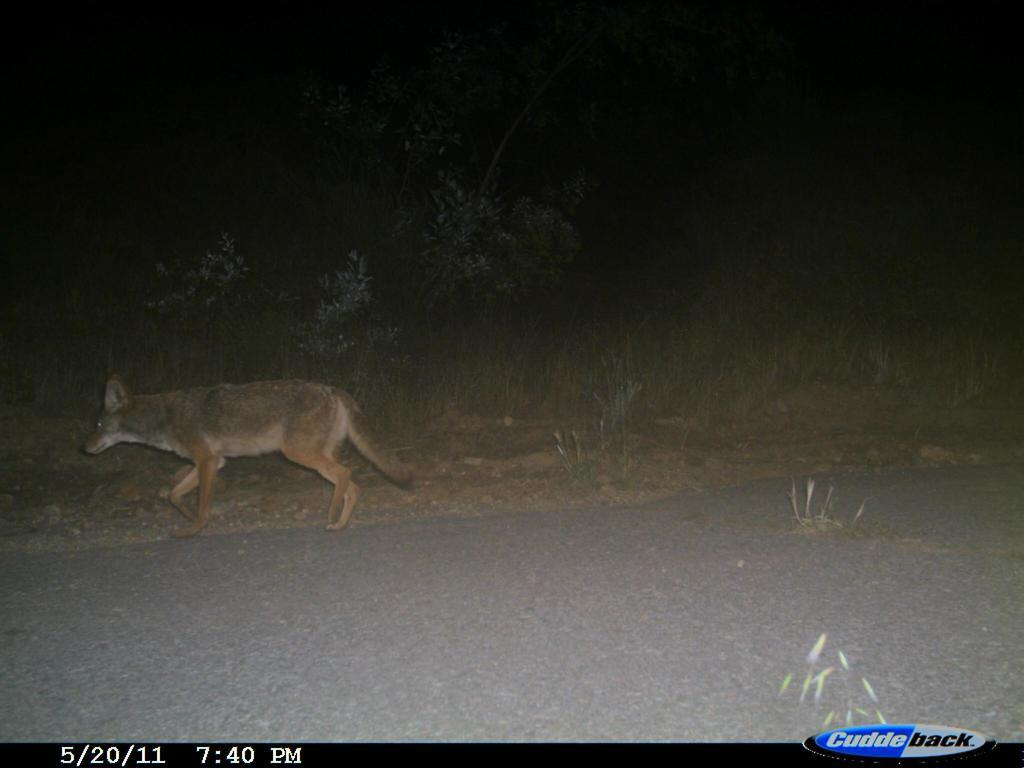coyote: (80, 368, 422, 537)
